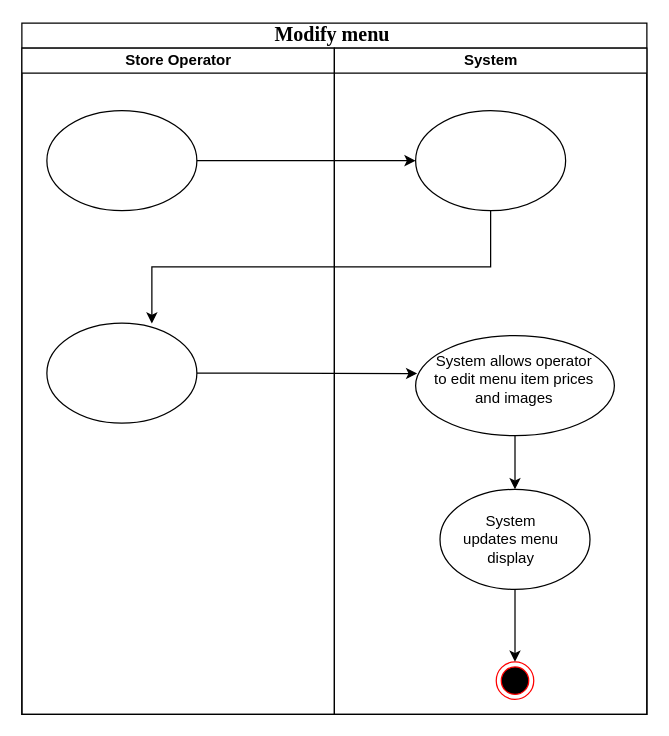
Some shapes in this 669 by 736 pixel diagram are drawn without their labels. The box of each missing label's shape, as (x1, y1, x2, y2) in pixels:
Store Operator needs to add or remove menu item: (46, 109, 197, 211)
Store Operator needs to alter menu item image or price: (46, 322, 197, 423)
System allows operator to input and remove menu items: (414, 109, 566, 211)
